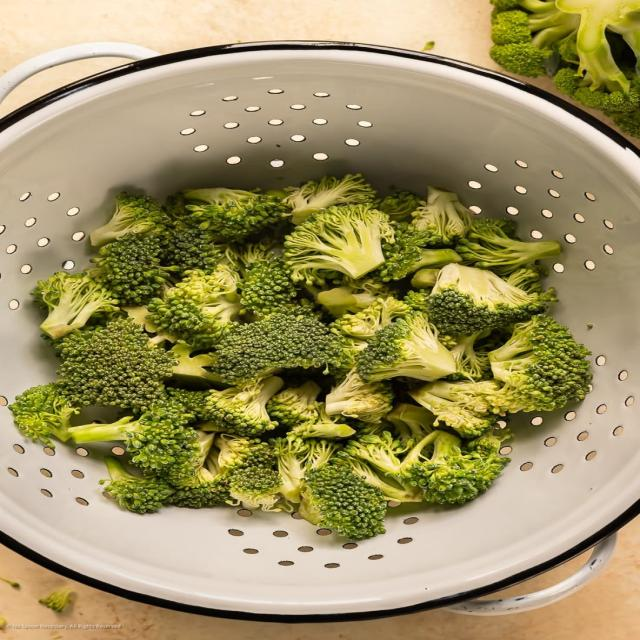broccoli: (491, 0, 639, 135), (345, 430, 509, 503), (59, 318, 176, 408), (489, 316, 592, 412), (69, 399, 197, 471), (425, 265, 554, 335), (214, 313, 339, 384), (284, 205, 394, 284), (148, 265, 243, 348), (555, 0, 639, 92), (402, 432, 509, 504), (357, 312, 456, 381), (490, 0, 579, 76), (300, 464, 386, 539), (87, 234, 175, 305), (330, 297, 410, 375), (456, 219, 561, 275), (32, 272, 119, 339), (207, 435, 282, 510), (182, 188, 288, 241), (409, 381, 501, 438), (371, 223, 461, 281), (204, 377, 283, 436), (334, 452, 423, 503), (9, 383, 79, 447), (285, 175, 376, 224), (343, 431, 437, 478), (90, 193, 170, 246), (554, 67, 639, 116), (100, 457, 174, 513), (411, 187, 473, 246), (326, 370, 393, 422), (240, 256, 297, 317), (331, 296, 410, 339), (161, 429, 214, 489), (315, 278, 390, 317), (207, 433, 275, 475), (271, 435, 313, 503), (164, 228, 226, 274), (221, 237, 281, 279), (267, 381, 320, 428), (169, 343, 221, 388), (289, 403, 355, 438), (229, 466, 281, 510), (167, 473, 231, 508), (449, 331, 490, 381), (386, 403, 433, 443), (376, 190, 424, 222), (461, 429, 513, 458), (167, 387, 207, 420), (504, 264, 546, 293), (305, 439, 343, 470), (38, 587, 75, 613), (612, 108, 639, 137), (411, 269, 439, 289), (0, 577, 19, 588), (0, 616, 7, 631)
